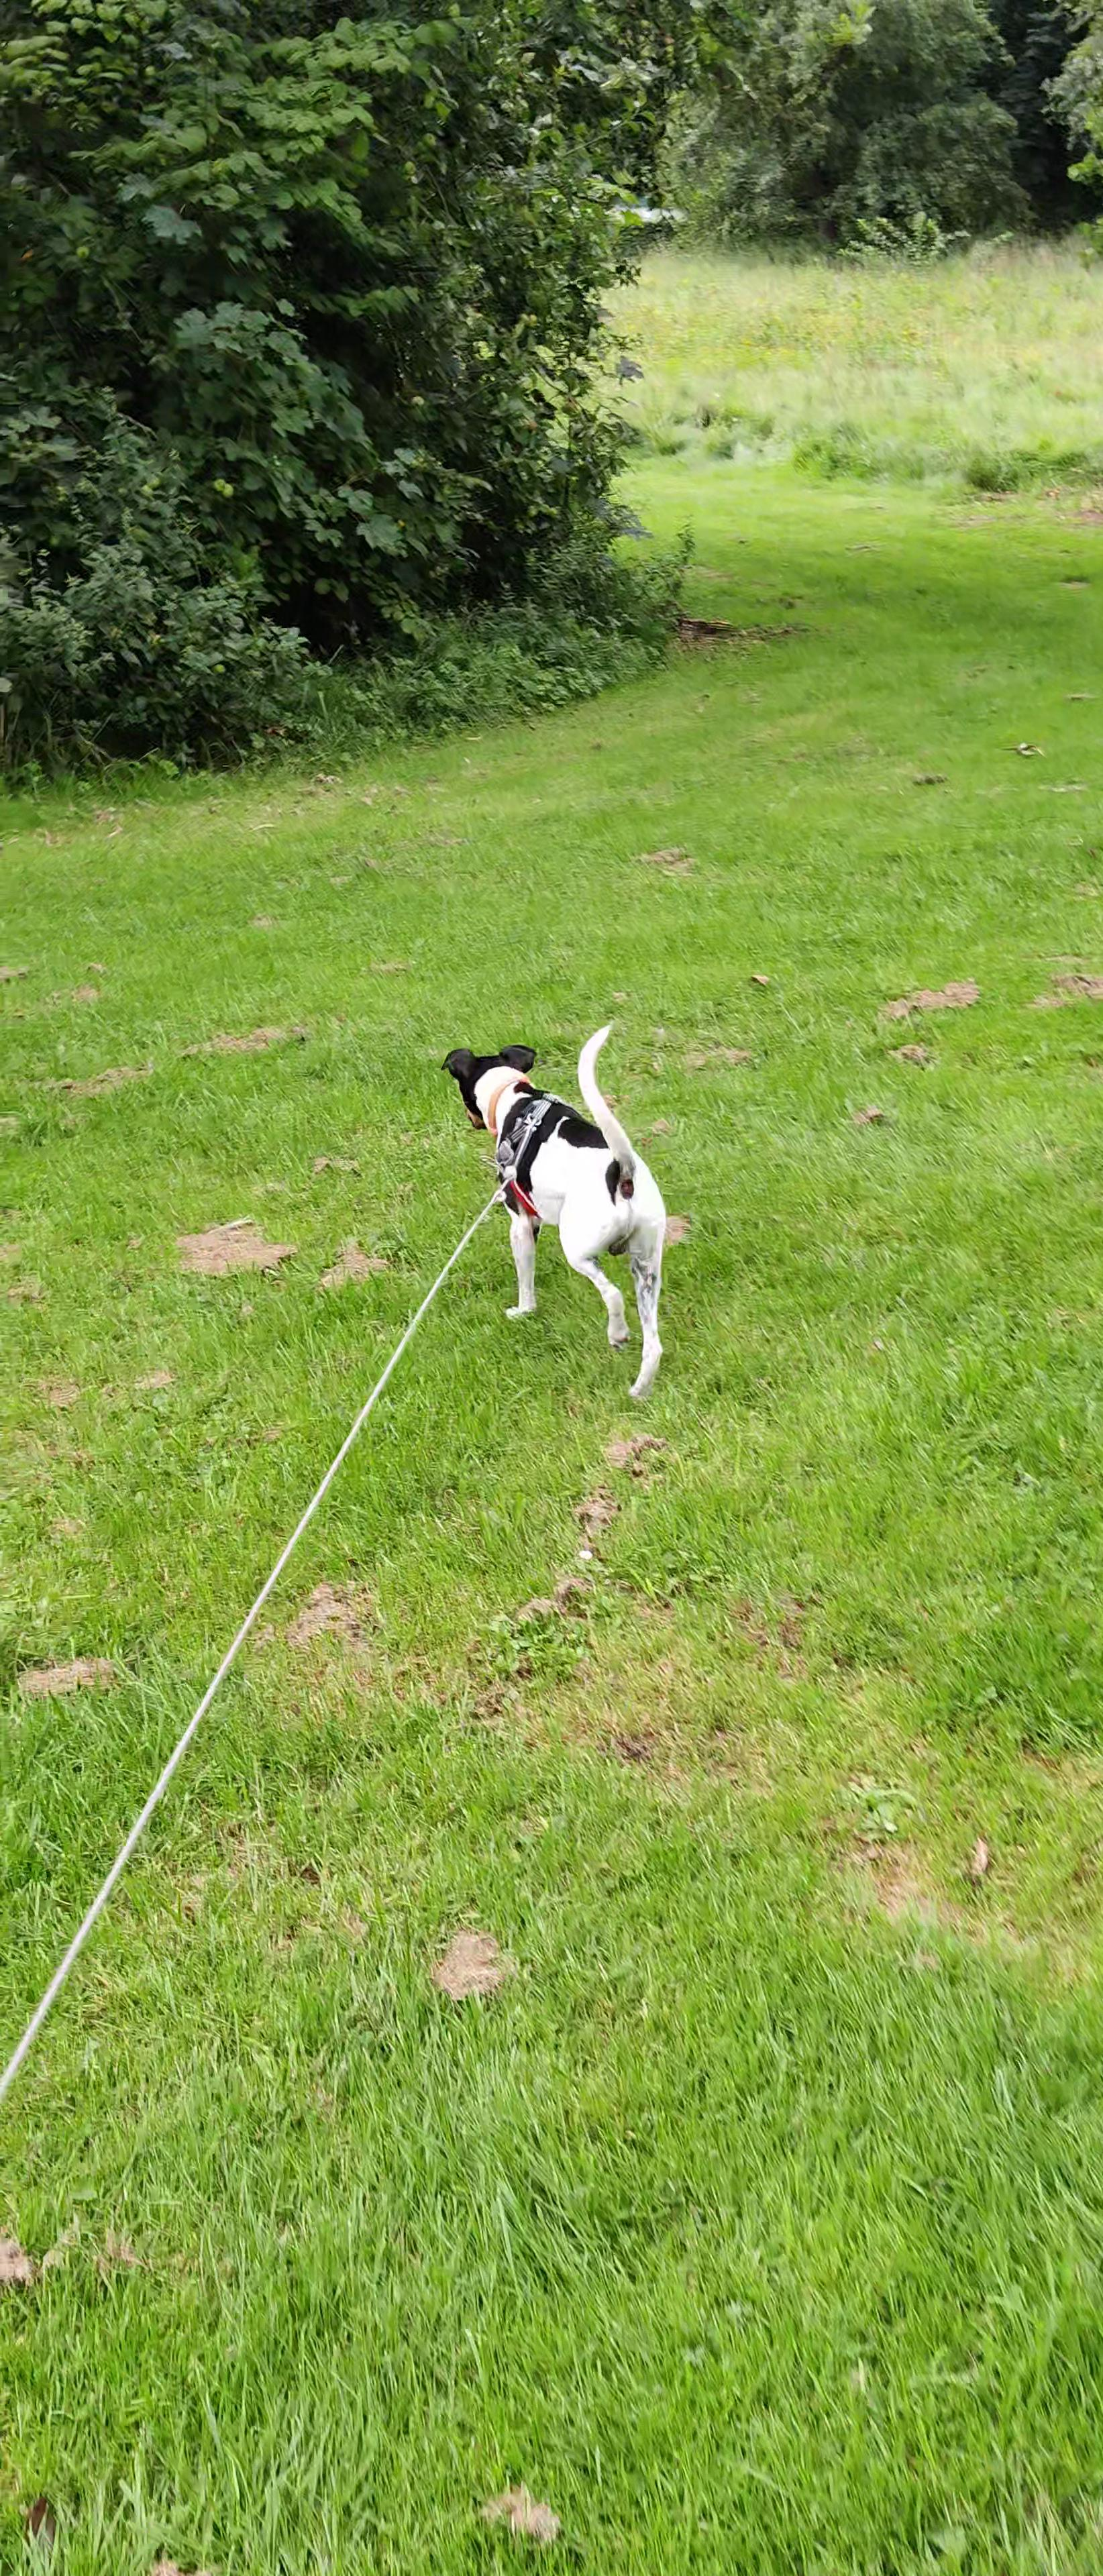Dog: (434, 1019, 672, 1405)
